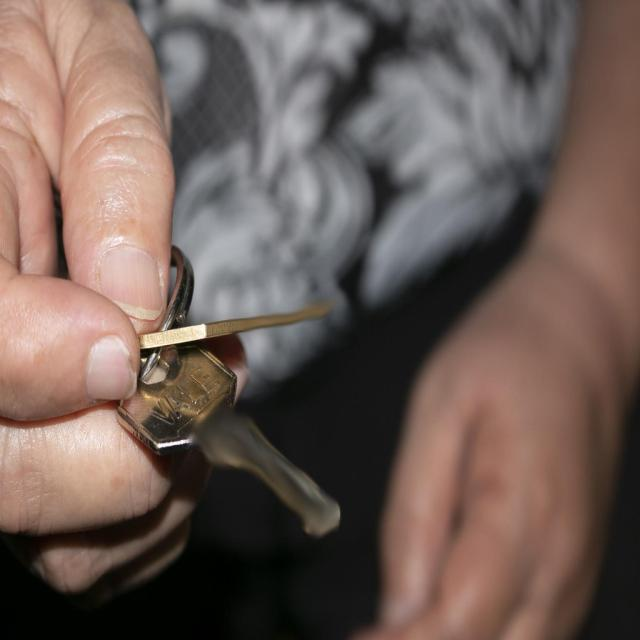Frontdoor keys: (120, 286, 360, 546)
